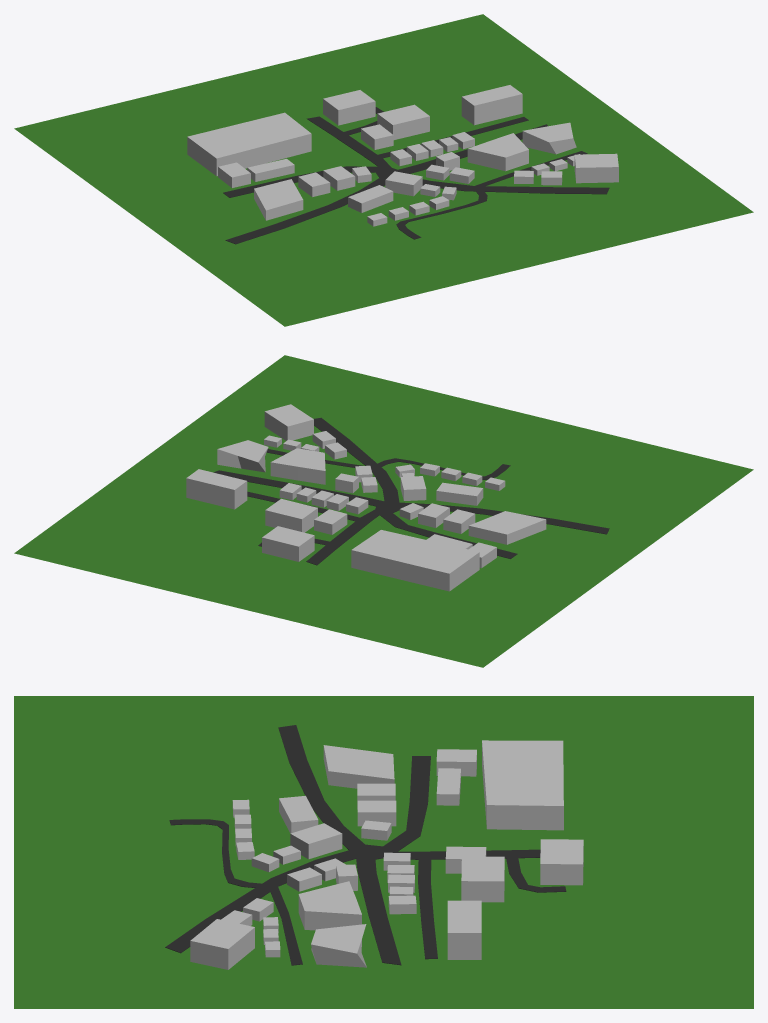
Rendered from town4.glb.
The picture shows the model from 3 angles, top to bottom: view 1: azimuth 30°, elevation 25°; view 2: azimuth 150°, elevation 25°; view 3: azimuth 270°, elevation 25°; orthographic projection. The views are drawn at different scales.
Parts seen in each view (by area): view 1: Plane.001, Plane, Cube.021, Cube, Cube.011, Cube.020, Cube.024, Cube.001, Cube.034, Cube.012, Cube.016, Cube.023 (+5 smaller); view 2: Plane.001, Plane, Cube.021, Cube, Cube.020, Cube.011, Cube.024, Cube.034, Cube.001, Cube.012, Cube.016, Cube.002 (+3 smaller); view 3: Plane.001, Plane, Cube.021, Cube.020, Cube.034, Cube.011, Cube, Cube.024, Cube.001, Cube.012, Cube.013, Cube.016 (+8 smaller).
Part boxes in pixels (x1=…): Plane.001: x1=14, y1=14, x2=753, y2=326; Plane: x1=223, y1=107, x2=609, y2=244; Cube.021: x1=187, y1=112, x2=311, y2=176; Cube: x1=461, y1=85, x2=522, y2=125; Cube.011: x1=467, y1=133, x2=528, y2=171; Cube.020: x1=254, y1=179, x2=303, y2=220; Cube.024: x1=323, y1=90, x2=375, y2=125; Cube.001: x1=377, y1=104, x2=429, y2=139; Cube.034: x1=574, y1=153, x2=618, y2=183; Cube.012: x1=522, y1=122, x2=576, y2=154; Cube.016: x1=348, y1=185, x2=393, y2=212; Cube.023: x1=247, y1=158, x2=294, y2=181; Plane.001: x1=14, y1=355, x2=753, y2=667; Plane: x1=213, y1=417, x2=609, y2=565; Cube.021: x1=351, y1=530, x2=479, y2=591; Cube: x1=186, y1=469, x2=247, y2=509; Cube.020: x1=468, y1=511, x2=546, y2=544; Cube.011: x1=270, y1=448, x2=325, y2=484; Cube.024: x1=262, y1=526, x2=314, y2=561; Cube.034: x1=264, y1=404, x2=313, y2=440; Cube.001: x1=265, y1=498, x2=317, y2=532; Cube.012: x1=217, y1=440, x2=268, y2=472; Cube.016: x1=436, y1=482, x2=483, y2=505; Cube.002: x1=314, y1=509, x2=347, y2=534; Plane.001: x1=14, y1=696, x2=753, y2=1008; Plane: x1=165, y1=725, x2=566, y2=965; Cube.021: x1=482, y1=740, x2=563, y2=830; Cube.020: x1=323, y1=745, x2=394, y2=788; Cube.034: x1=190, y1=919, x2=254, y2=969; Cube.011: x1=298, y1=881, x2=361, y2=930; Cube: x1=447, y1=900, x2=481, y2=959; Cube.024: x1=540, y1=839, x2=583, y2=885; Cube.001: x1=461, y1=856, x2=504, y2=902; Cube.012: x1=311, y1=924, x2=366, y2=967; Cube.013: x1=290, y1=823, x2=342, y2=859; Cube.016: x1=279, y1=795, x2=318, y2=833.
Bounding box in the file's own units: 78.17 × 3.22 × 78.17.
